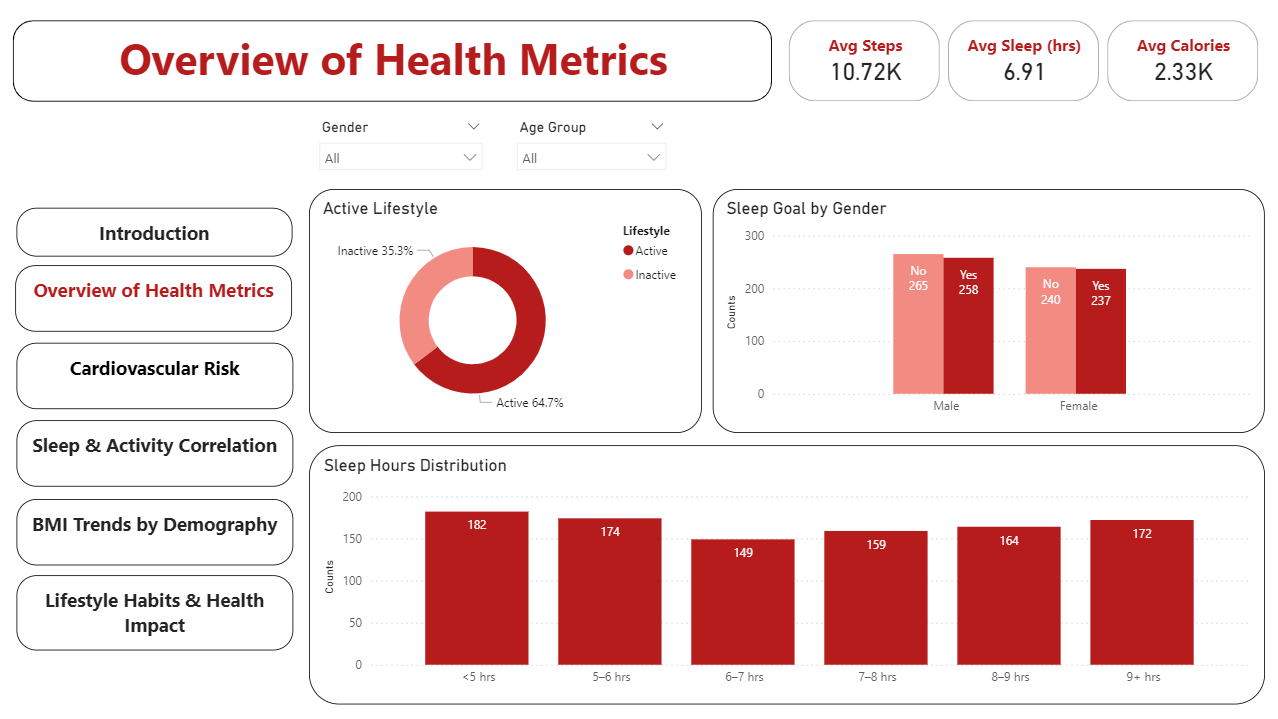

Layout of this report page (visuals, bound fields, positions):
{"tool":"powerbi","page":{"name":"Overview of Health Metrics","canvas":[1280,720],"ordinal":1},"visuals":[{"type":"cardVisual","fields":{"Data":["Health_Data.Avg Steps","Health_Data.Avg Sleep","Health_Data.Avg Calories"]},"box":[784.9,20.9,481.4,81.4],"z":0},{"type":"columnChart","title":"Sleep Hours Distribution","fields":{"Category":["Health_Data.Sleep Range"],"Y":["Count(Health_Data.ID)"]},"box":[310.5,446.5,955.8,259.3],"z":1000},{"type":"donutChart","title":"Active Lifestyle","fields":{"Y":["CountNonNull(Health_Data.ID)"],"Category":["Health_Data.Active Lifestyle"]},"box":[310.5,189.5,393,244.2],"z":2000},{"type":"slicer","fields":{"Values":["Health_Data.Gender"]},"box":[310.5,115.1,183.7,62.8],"z":3000},{"type":"slicer","fields":{"Values":["Health_Data.Age Group"]},"box":[507,115.1,169.8,62.8],"z":4000},{"type":"shape","box":[14,20.9,759.3,81.4],"z":5000},{"type":"textbox","box":[53.5,24.4,681.4,74.4],"z":6000},{"type":"clusteredColumnChart","title":" Sleep Goal by Gender","fields":{"Category":["Health_Data.Gender"],"Y":["CountNonNull(Health_Data.ID)"],"Series":["Health_Data.Met Sleep Goal"]},"box":[714,189.5,552.3,244.2],"z":7000},{"type":"textbox","box":[16.3,266.3,276.7,66.3],"z":8000},{"type":"textbox","box":[17.4,420.9,276.7,66.3],"z":9000},{"type":"textbox","box":[17.4,500,276.7,66.3],"z":10000},{"type":"textbox","box":[17.4,576.7,276.7,75.6],"z":11000},{"type":"shape","box":[16.9,421.1,275.9,66.6],"z":12000},{"type":"textbox","box":[17.4,344.2,276.7,66.3],"z":13000},{"type":"shape","box":[16.9,343.7,275.9,66.6],"z":14000},{"type":"shape","box":[13.6,499.8,279.3,66.7],"z":15000},{"type":"shape","box":[17,576.6,275.9,75.8],"z":16000},{"type":"textbox","box":[17,209.2,275.9,48.6],"z":17000},{"type":"shape","box":[17,209.2,277,48.6],"z":18000}]}

Visuals, with their boxes in screenshot pixels (x1, y1, x2, y2), scaled from the page's 1280x720 canvas onto the 1278x719 screenshot:
cardVisual - Health_Data.Avg Steps x Health_Data.Avg Sleep: l=784, t=21, r=1264, b=102
"Sleep Hours Distribution" columnChart: l=310, t=446, r=1264, b=705
"Active Lifestyle" donutChart: l=310, t=189, r=702, b=433
slicer - Health_Data.Gender: l=310, t=115, r=493, b=178
slicer - Health_Data.Age Group: l=506, t=115, r=676, b=178
shape: l=14, t=21, r=772, b=102
textbox: l=53, t=24, r=734, b=99
" Sleep Goal by Gender" clusteredColumnChart: l=713, t=189, r=1264, b=433
textbox: l=16, t=266, r=293, b=332
textbox: l=17, t=420, r=294, b=487
textbox: l=17, t=499, r=294, b=566
textbox: l=17, t=576, r=294, b=651
shape: l=17, t=421, r=292, b=487
textbox: l=17, t=344, r=294, b=410
shape: l=17, t=343, r=292, b=410
shape: l=14, t=499, r=292, b=566
shape: l=17, t=576, r=292, b=651
textbox: l=17, t=209, r=292, b=257
shape: l=17, t=209, r=294, b=257
